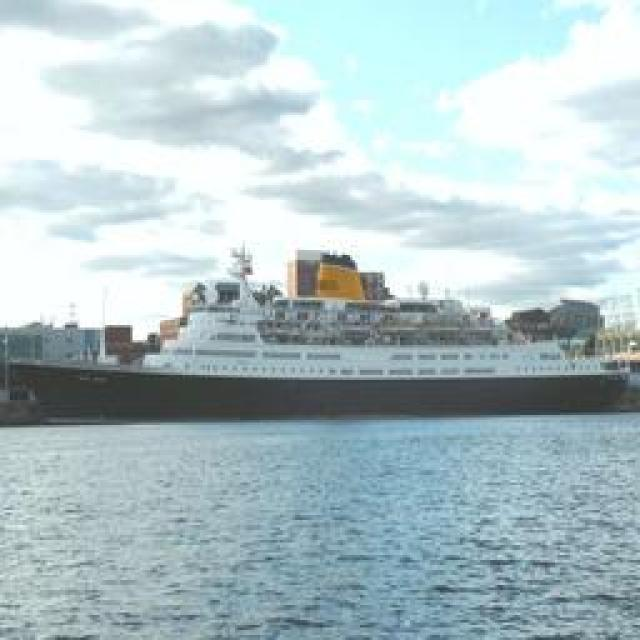CIV_Ship: (21, 251, 629, 419)
